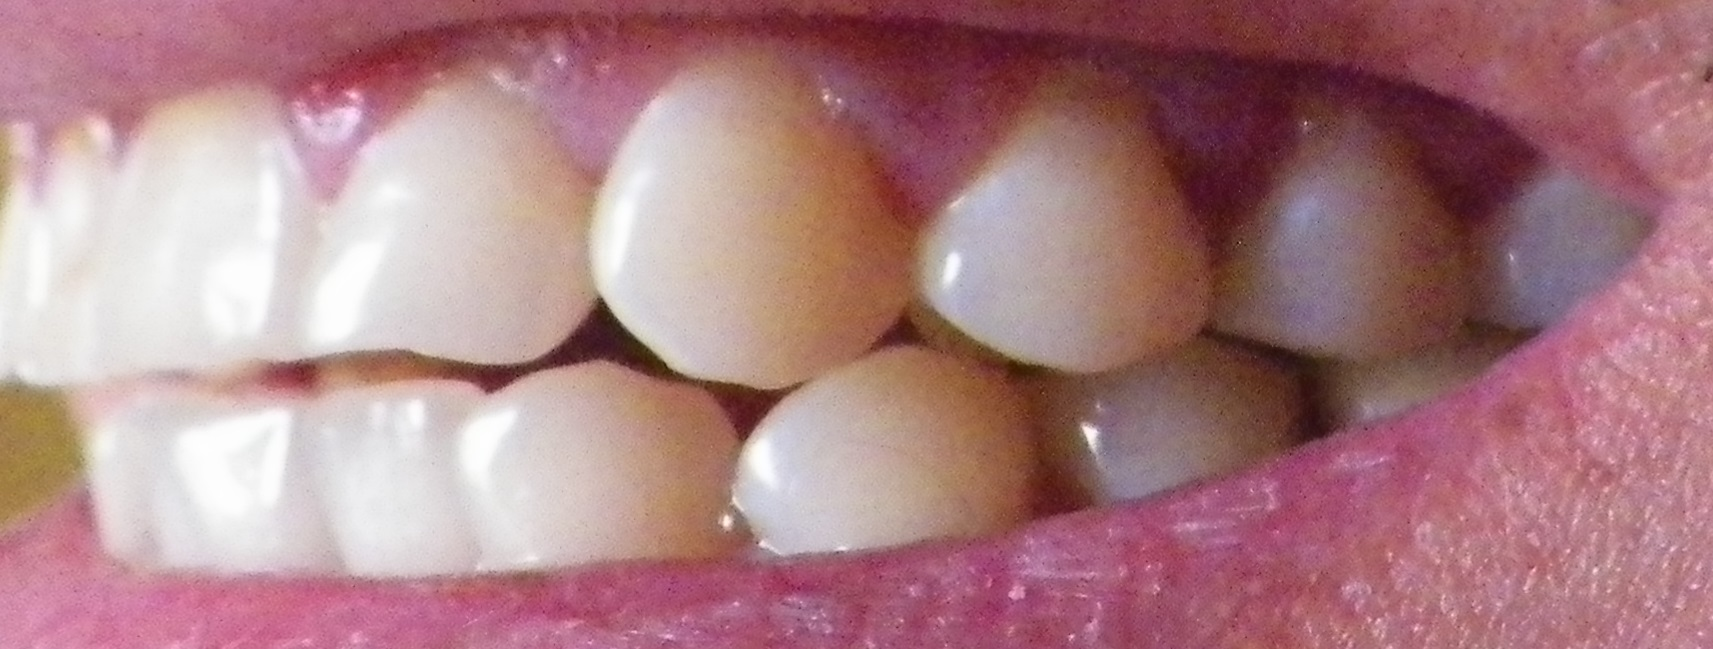boca: (1, 50, 1640, 585)
